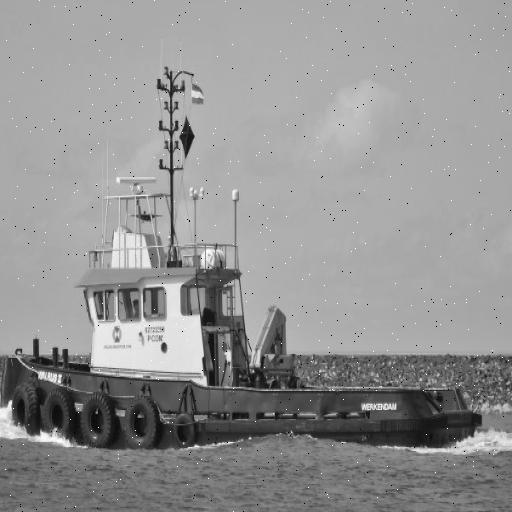tugboat: (1, 61, 488, 461)
